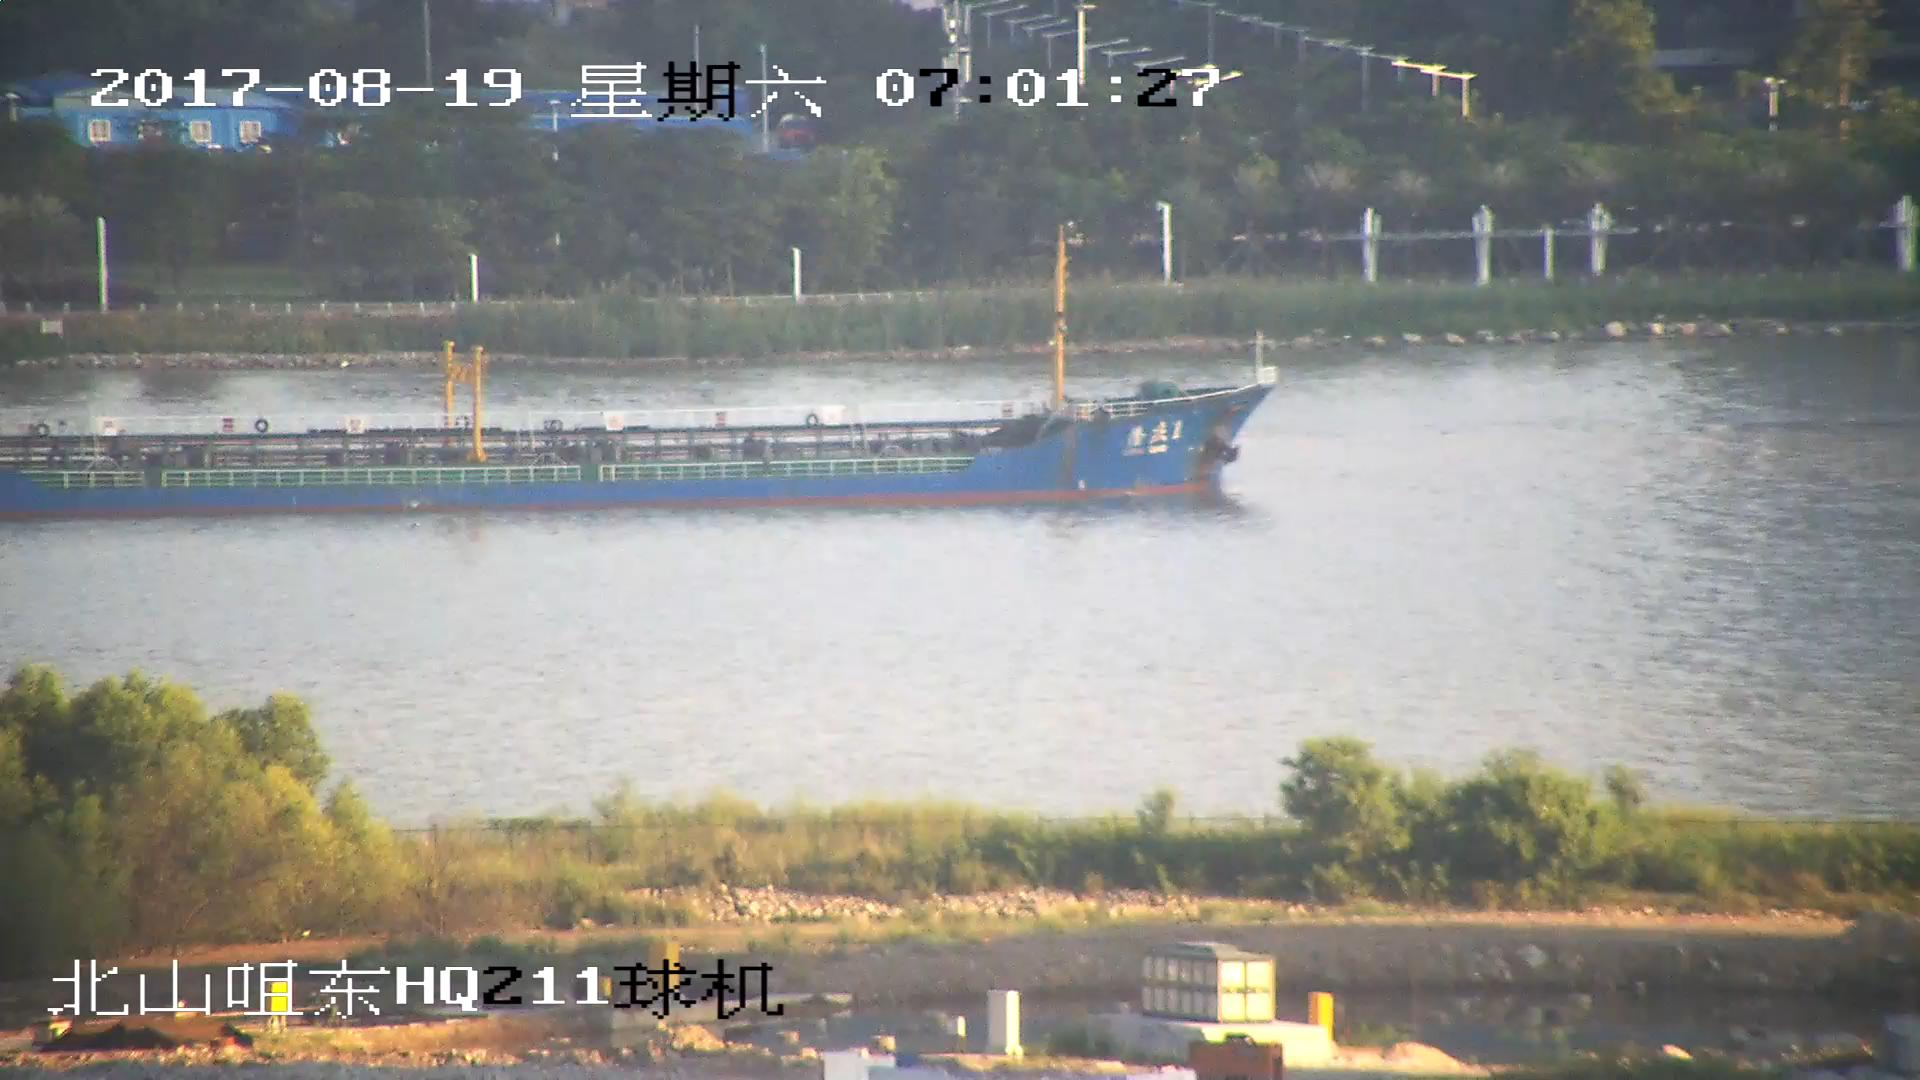general cargo ship: (1, 237, 1265, 502)
